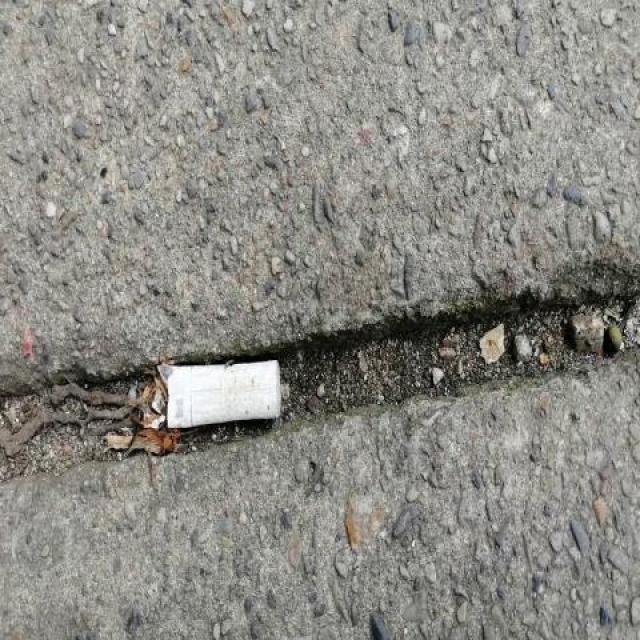non-organic waste: (156, 357, 287, 435)
